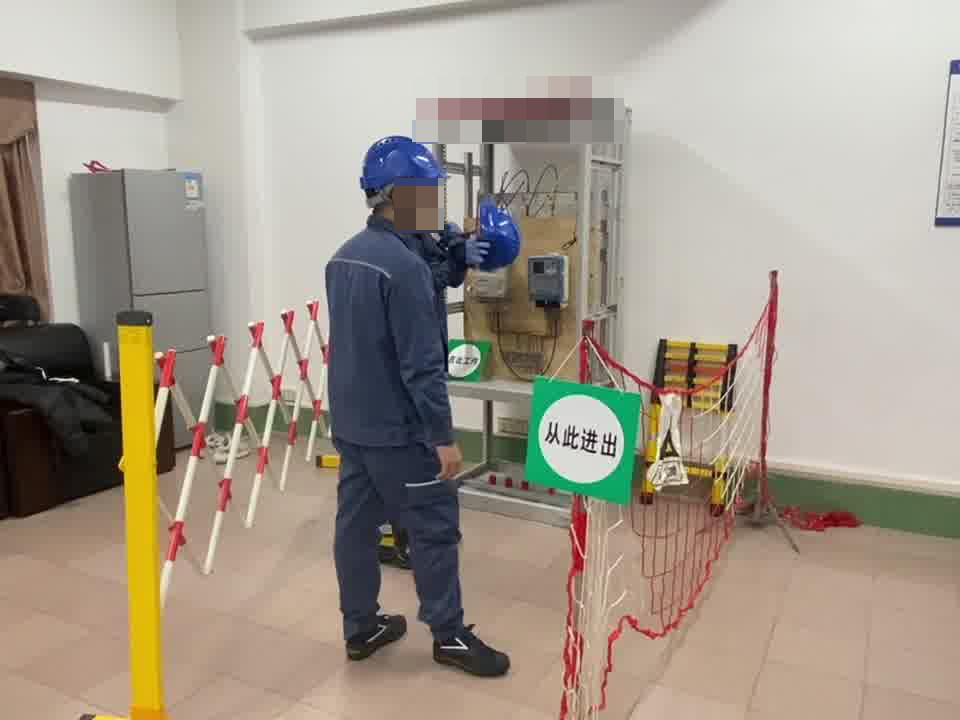downsuit: (332, 457, 469, 637)
glove: (443, 229, 488, 270)
halt: (359, 133, 452, 225)
hand: (438, 444, 467, 479)
inear: (379, 180, 420, 224)
intosign: (531, 376, 644, 504)
person: (319, 129, 516, 674)
upsuit: (323, 216, 484, 444)
worksign: (442, 338, 488, 378)
